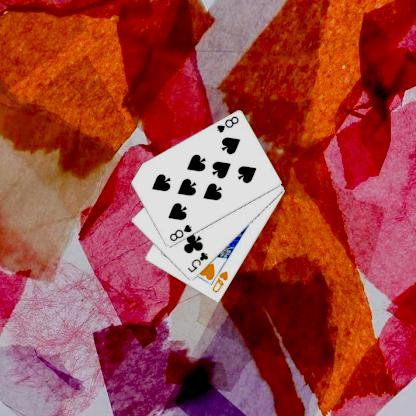5C: (184, 250, 209, 274)
8S: (167, 222, 193, 243), (214, 113, 240, 134)
QH: (209, 269, 230, 294)
